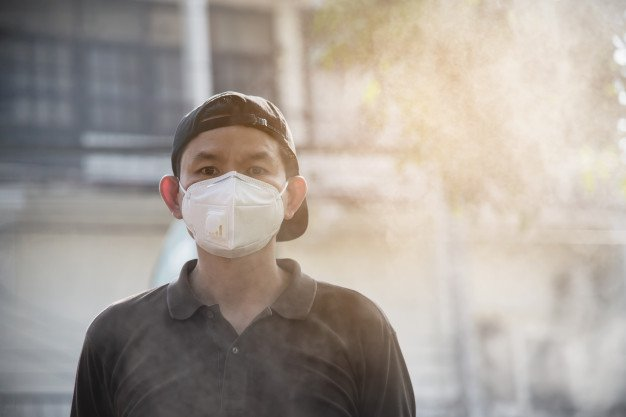mask: (145, 91, 325, 266)
